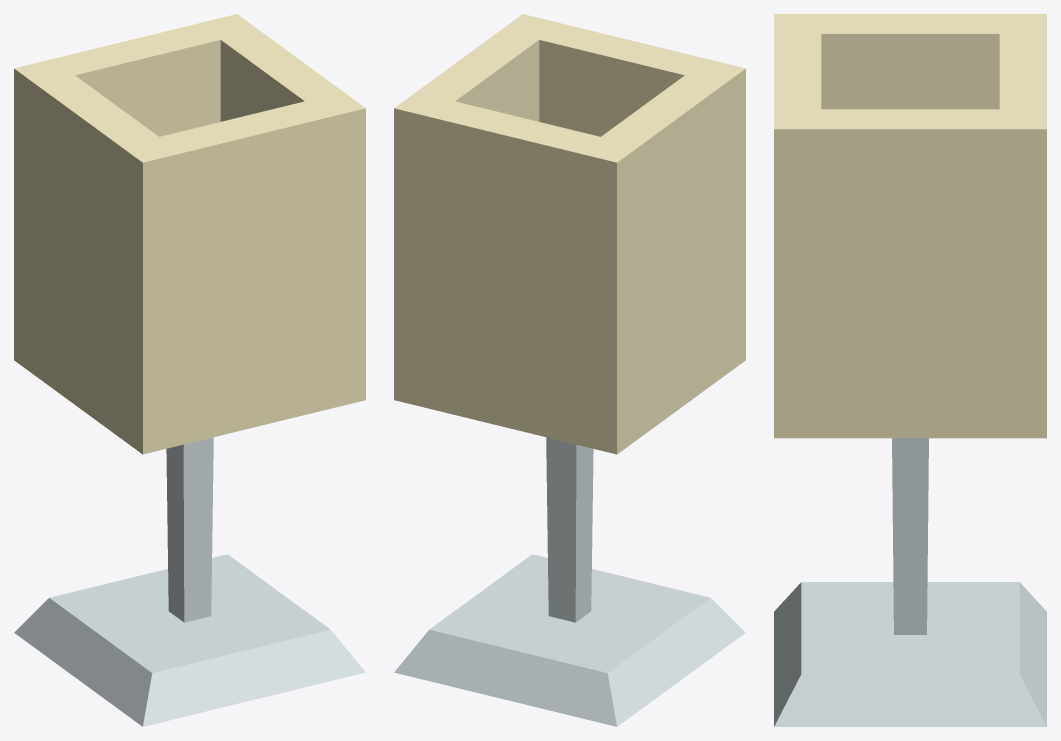
The model's file is lampSquareTable.glb.
3 views of the same model, side by side, from view 1: azimuth 30°, elevation 25°; view 2: azimuth 150°, elevation 25°; view 3: azimuth 270°, elevation 25° (orthographic). The views are drawn at different scales.
Visible parts, largest first — view 1: lampSquareTable(Clone); view 2: lampSquareTable(Clone); view 3: lampSquareTable(Clone).
Part boxes in pixels (left/top/right/bottom): lampSquareTable(Clone): left=14, top=14, right=365, bottom=726; lampSquareTable(Clone): left=394, top=14, right=745, bottom=726; lampSquareTable(Clone): left=774, top=14, right=1046, bottom=726.
Size of the model in its own units: 0.2436 by 0.5887 by 0.2436.
Materials: 2 (2 with a texture image).
